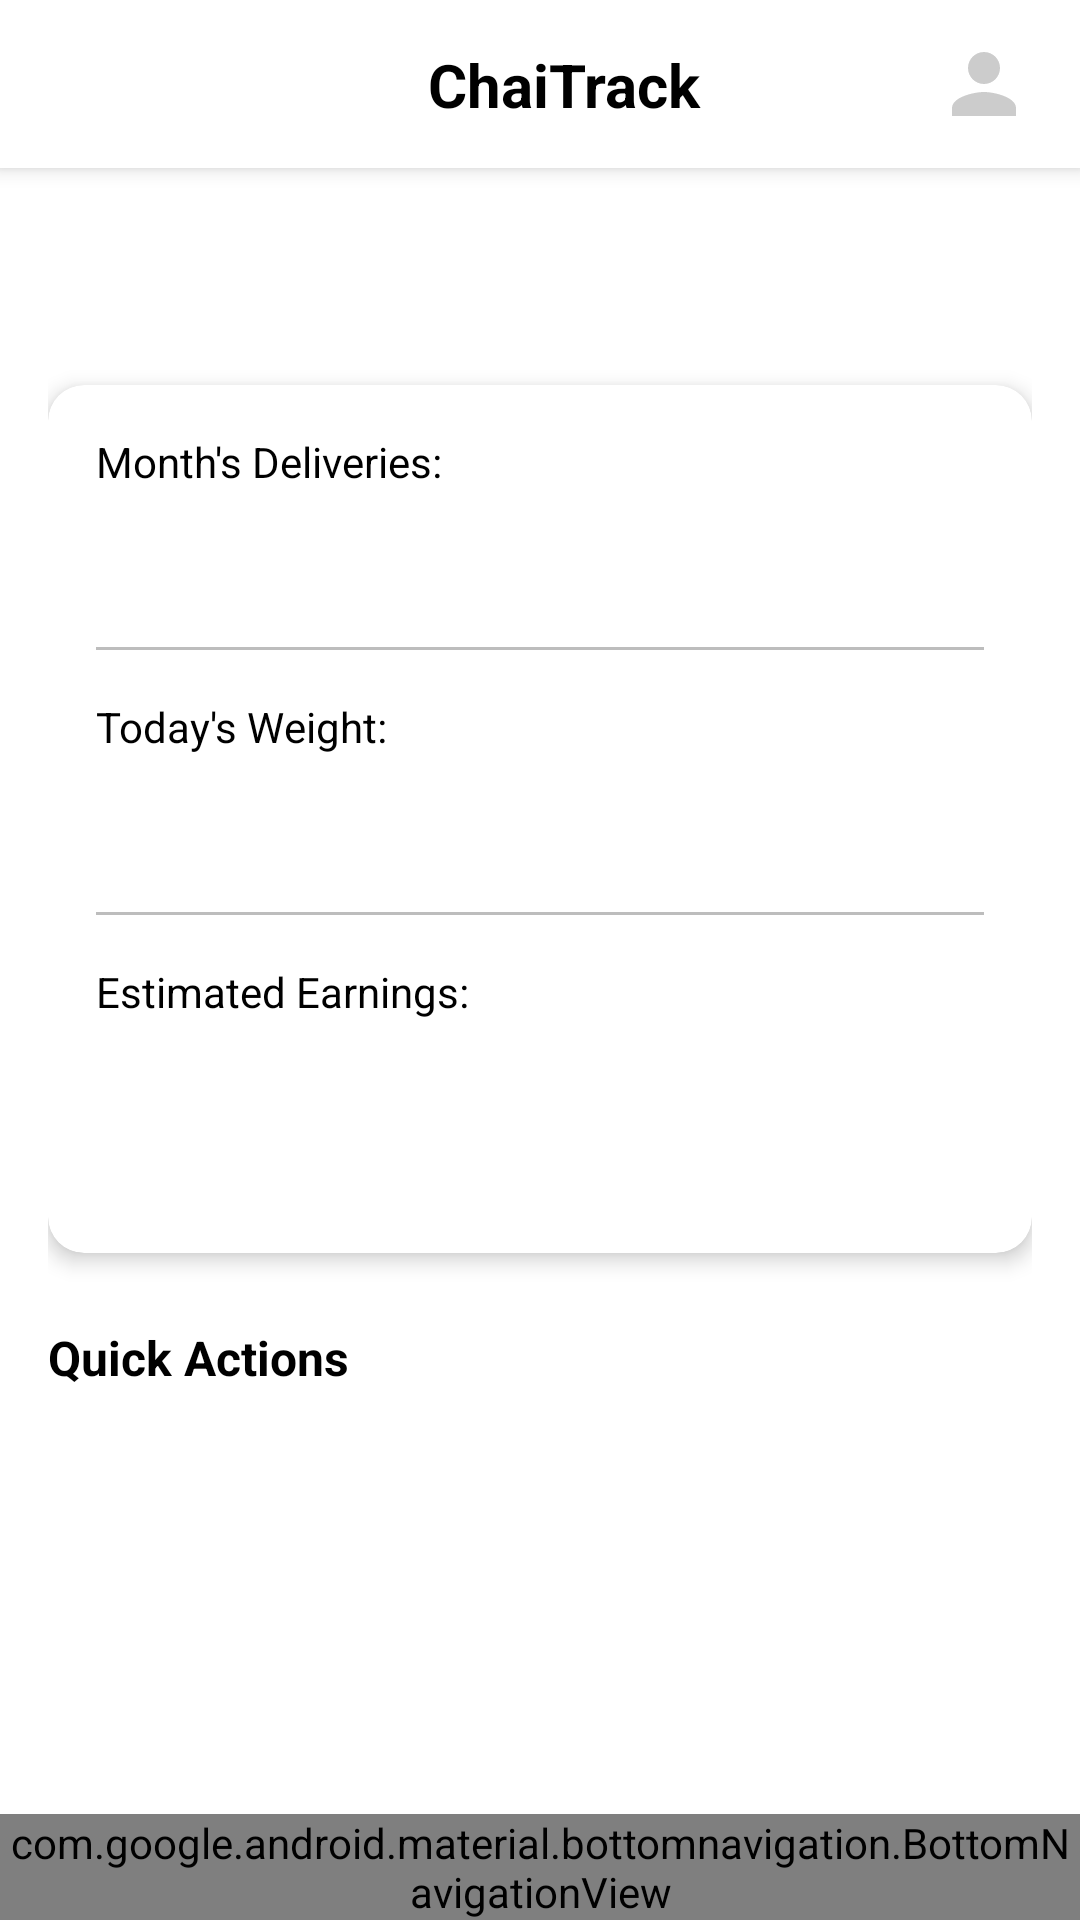

Screen size 1080×1920. Icon name, then its box in pixels as (x1, y1, x2, y2):
User profile menu: (952, 52, 1016, 116)
